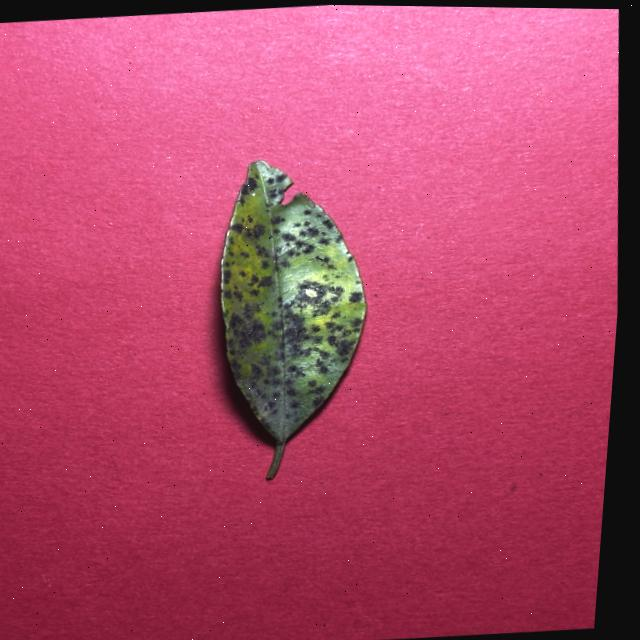sooty_mold: (220, 159, 365, 478)
